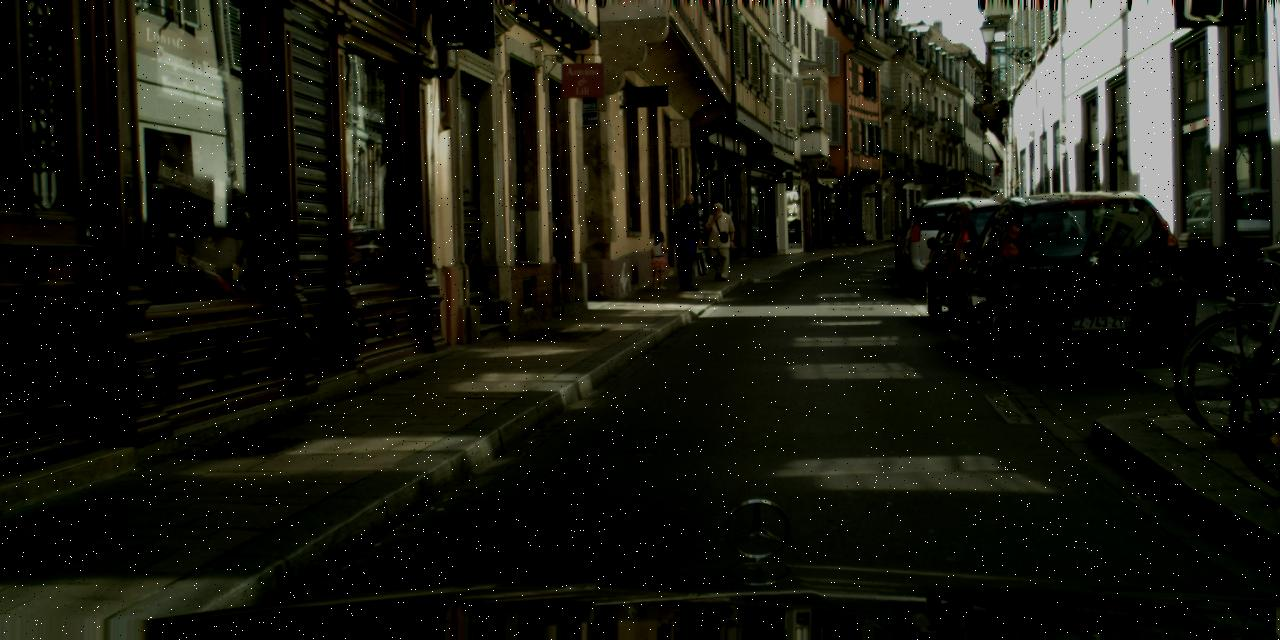ped: (668, 195, 707, 290), (702, 202, 734, 279), (646, 230, 670, 288)
